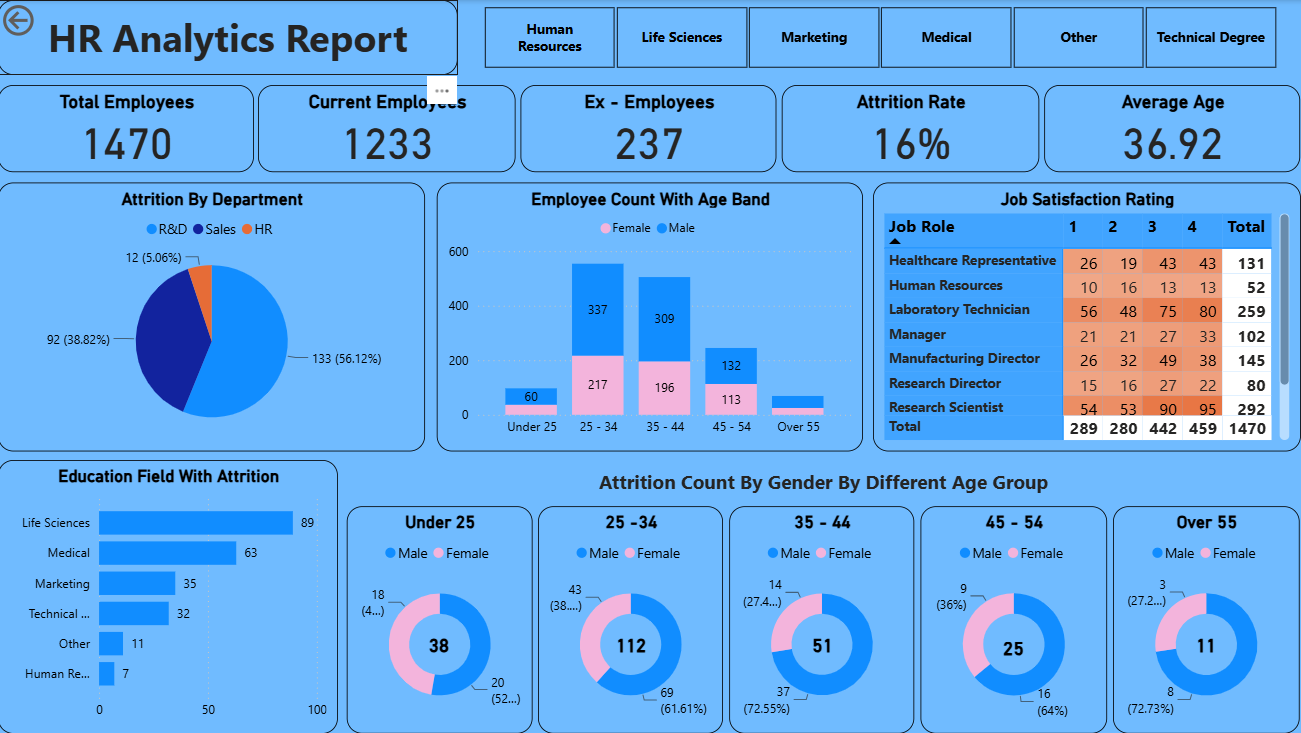

Layout of this report page (visuals, bound fields, positions):
{"tool":"powerbi","page":{"name":"Page 1","canvas":[1280,720],"ordinal":0},"visuals":[{"type":"card","title":"Total Employees","fields":{"Values":["Sum(Table1.Employee Count)"]},"box":[0,83.4,251.5,85.9],"z":0},{"type":"card","title":"Current Employees","fields":{"Values":["Sum(Table1.CF_current Employee)"]},"box":[255.2,83.4,252.8,85.9],"z":1000},{"type":"card","title":"Ex - Employees","fields":{"Values":["Sum(Table1.Attrition Count)"]},"box":[512.9,83.4,251.5,85.9],"z":2000},{"type":"card","title":"Attrition Rate","fields":{"Values":["Table1.Attrition Rate"]},"box":[769.3,83.4,252.8,85.9],"z":3000},{"type":"card","title":"Average Age","fields":{"Values":["Avg(Table1.Age)"]},"box":[1027,83.4,251.5,85.9],"z":4000},{"type":"actionButton","box":[0,0,100,40],"z":5000},{"type":"textbox","box":[0,0,451.5,73.6],"z":6000},{"type":"pieChart","title":"Attrition By Department","fields":{"Category":["Table1.Department"],"Y":["Sum(Table1.Attrition Count)"]},"box":[0,179.1,419,263.8],"z":7000},{"type":"columnChart","title":"Employee Count With Age Band","fields":{"Y":["Sum(Table1.Employee Count)"],"Category":["Table1.CF_age band"],"Series":["Table1.Gender"]},"box":[430.7,179.1,418.4,263.8],"z":8000},{"type":"pivotTable","title":"Job Satisfaction Rating","fields":{"Rows":["Table1.Job Role"],"Columns":["Table1.Job Satisfaction"],"Values":["Sum(Table1.Employee Count)"]},"box":[858.9,179.1,419.6,263.8],"z":9000},{"type":"clusteredBarChart","title":"Education Field With Attrition","fields":{"Category":["Table1.Education Field"],"Y":["Sum(Table1.Attrition Count)"]},"box":[0,451.5,333.7,268.7],"z":10000},{"type":"textbox","box":[342.3,455.2,936.2,40.5],"z":11000},{"type":"donutChart","title":"Under 25","fields":{"Category":["Table1.Gender"],"Y":["Sum(Table1.Attrition Count)"]},"box":[342.3,496.9,182,223.3],"z":12000},{"type":"donutChart","title":"25 -34","fields":{"Y":["Sum(Table1.Attrition Count)"],"Category":["Table1.Gender"]},"box":[530.1,496.7,181.6,223.3],"z":13000},{"type":"donutChart","title":"35 - 44","fields":{"Category":["Table1.Gender"],"Y":["Sum(Table1.Attrition Count)"]},"box":[717.8,496.7,181.6,223.3],"z":14000},{"type":"donutChart","title":"Over 55","fields":{"Category":["Table1.Gender"],"Y":["Sum(Table1.Attrition Count)"]},"box":[1094.5,496.9,182.8,223.3],"z":15000},{"type":"donutChart","title":"45 - 54","fields":{"Y":["Sum(Table1.Attrition Count)"],"Category":["Table1.Gender"]},"box":[905.5,496.7,182.8,223.3],"z":16000},{"type":"card","fields":{"Values":["Sum(Table1.Attrition Count)"]},"box":[414.7,619.6,36.8,28.2],"z":17000},{"type":"card","fields":{"Values":["Sum(Table1.Attrition Count)"]},"box":[791.4,619.6,35.6,28.2],"z":18000},{"type":"card","fields":{"Values":["Sum(Table1.Attrition Count)"]},"box":[980.4,622.1,33.1,24.5],"z":19000},{"type":"card","fields":{"Values":["Sum(Table1.Attrition Count)"]},"box":[1169.3,619.6,33.1,28.2],"z":20000},{"type":"card","fields":{"Values":["Sum(Table1.Attrition Count)"]},"box":[598.8,619.6,45.4,28.2],"z":21000},{"type":"slicer","fields":{"Values":["Table1.Education Field"]},"box":[451.5,0,827,73.6],"z":22000}]}

Visuals, with their boxes in screenshot pixels (x1, y1, x2, y2), scaled from the page's 1280x720 canvas onto the 1301x733 screenshot:
"Total Employees" card: [0,85,256,172]
"Current Employees" card: [259,85,516,172]
"Ex - Employees" card: [521,85,777,172]
"Attrition Rate" card: [782,85,1039,172]
"Average Age" card: [1044,85,1299,172]
actionButton: [0,0,102,41]
textbox: [0,0,459,75]
"Attrition By Department" pieChart: [0,182,426,451]
"Employee Count With Age Band" columnChart: [438,182,863,451]
"Job Satisfaction Rating" pivotTable: [873,182,1299,451]
"Education Field With Attrition" clusteredBarChart: [0,460,339,732]
textbox: [348,463,1299,505]
"Under 25" donutChart: [348,506,533,732]
"25 -34" donutChart: [539,506,723,732]
"35 - 44" donutChart: [730,506,914,732]
"Over 55" donutChart: [1112,506,1298,732]
"45 - 54" donutChart: [920,506,1106,732]
card - Sum(Table1.Attrition Count): [422,631,459,659]
card - Sum(Table1.Attrition Count): [804,631,841,659]
card - Sum(Table1.Attrition Count): [996,633,1030,658]
card - Sum(Table1.Attrition Count): [1188,631,1222,659]
card - Sum(Table1.Attrition Count): [609,631,655,659]
slicer - Table1.Education Field: [459,0,1299,75]
